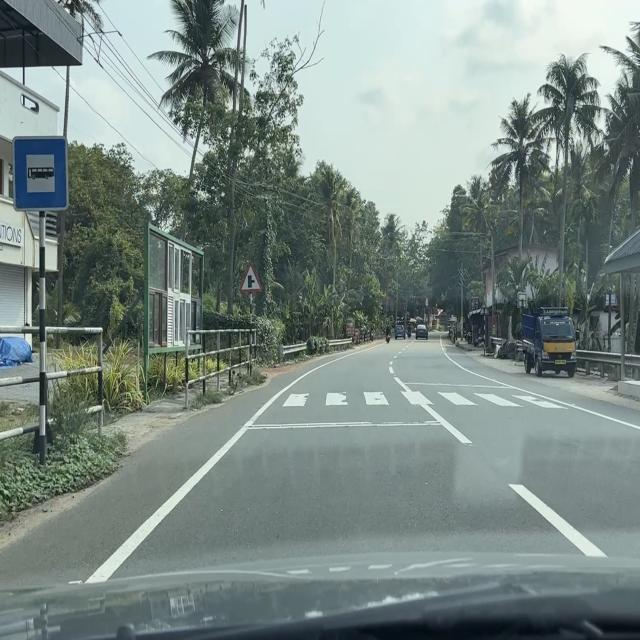INFORMATION: (12, 134, 70, 213)
SIDE_ROAD_RIGHT: (240, 262, 262, 294)
